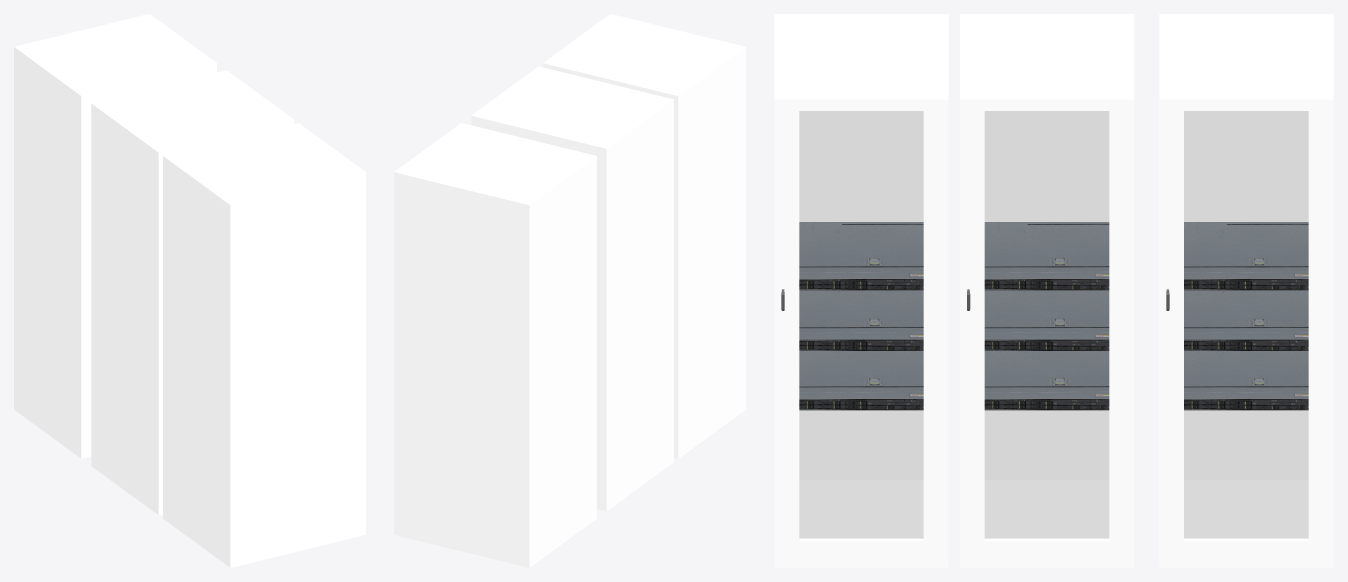
Rendered from c-datacenter.glb.
3 renders of one model, left to right at view 1: azimuth 30°, elevation 25°; view 2: azimuth 150°, elevation 25°; view 3: azimuth 270°, elevation 25°, orthographic. The views are drawn at different scales.
Visible parts, largest first — view 1: body.001, body.002, body, door.002; view 2: body.002, body, body.001, door.003; view 3: door-glass.001, door-glass.003, door-glass.002, body, body.001, body.002, door.003, door.001, door.002, server.001, server.004, server.007 (+6 smaller).
Boxes of the visible parts, <box> form: body.001: <box>163,124,361,567</box>; body.002: <box>14,15,212,458</box>; body: <box>91,71,289,515</box>; door.002: <box>295,123,365,535</box>; body.002: <box>398,124,596,567</box>; body: <box>475,67,673,511</box>; body.001: <box>547,15,745,458</box>; door.003: <box>394,123,464,535</box>; door-glass.001: <box>985,111,1108,537</box>; door-glass.003: <box>1184,111,1307,537</box>; door-glass.002: <box>800,111,922,537</box>; body: <box>960,14,1134,564</box>; body.001: <box>774,14,948,565</box>; body.002: <box>1159,14,1333,565</box>; door.003: <box>1159,96,1332,567</box>; door.001: <box>960,96,1133,567</box>; door.002: <box>775,96,947,567</box>; server.001: <box>984,222,1109,290</box>; server.004: <box>799,222,923,290</box>; server.007: <box>1184,222,1308,290</box>.
Size of what is drawn, in the model's own units: 0.7415 by 1.86 by 2.01.
4 materials, 1 textured.
